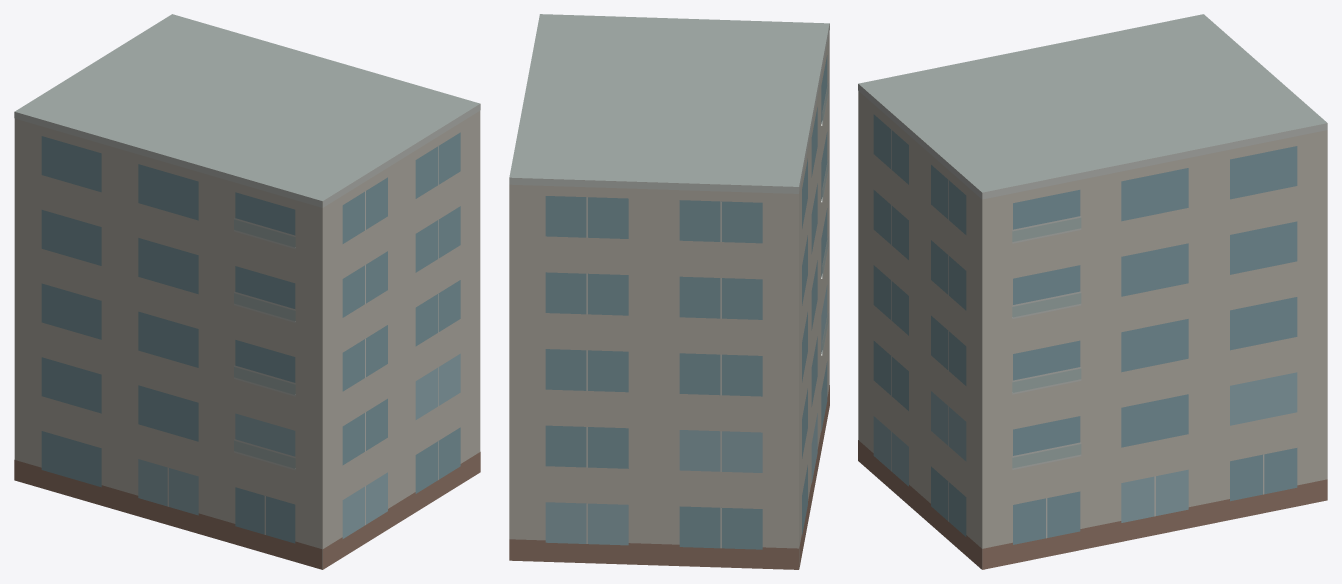
File: survey-upis-32839464.glb
3 views of the same model, side by side, from view 1: azimuth 30°, elevation 25°; view 2: azimuth 150°, elevation 25°; view 3: azimuth 270°, elevation 25° (orthographic). The views are drawn at different scales.
Parts seen in each view (by area): view 1: survey-upis-32839464.tmp; view 2: survey-upis-32839464.tmp; view 3: survey-upis-32839464.tmp.
Part boxes in pixels (x1,y1,x2,y2): survey-upis-32839464.tmp: [14, 14, 480, 569]; survey-upis-32839464.tmp: [509, 14, 829, 569]; survey-upis-32839464.tmp: [858, 14, 1327, 569].
Size of the model in its own units: 13.52 by 13.3 by 15.01.
